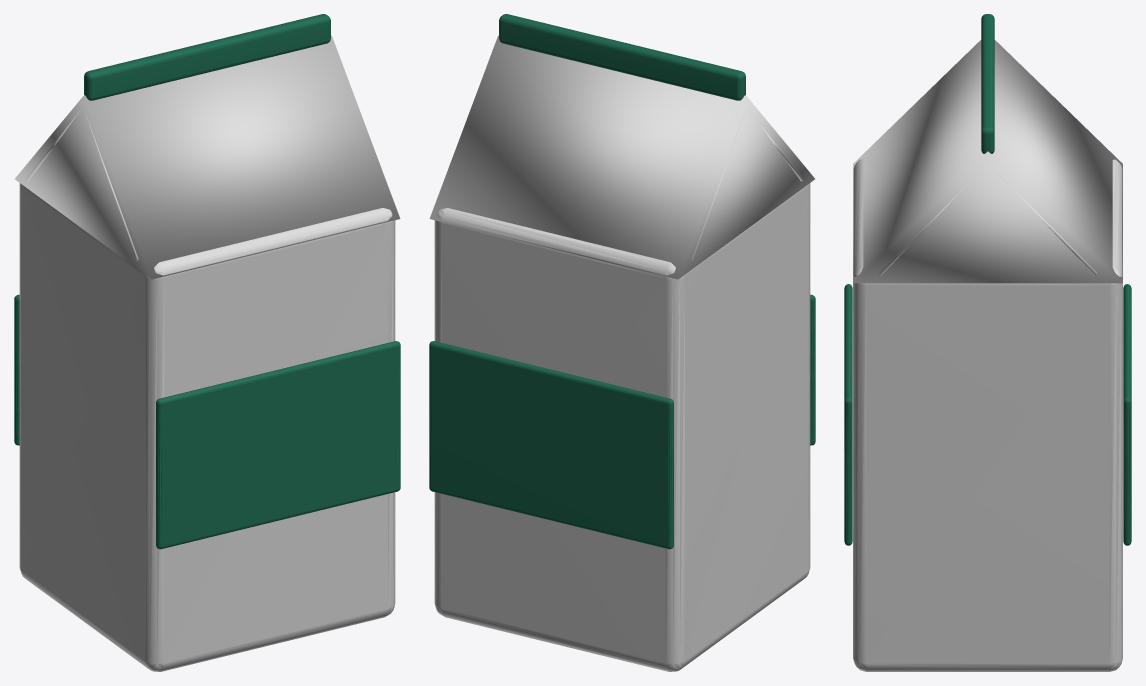
Rendered from carton.glb.
The picture shows the model from 3 angles, left to right: view 1: azimuth 30°, elevation 25°; view 2: azimuth 150°, elevation 25°; view 3: azimuth 270°, elevation 25°; orthographic projection.
Visible parts, largest first — view 1: body, band, cap; view 2: body, band, cap; view 3: body, band, cap.
Boxes of the visible parts, <box> form: body: <box>15,35,400,671</box>; band: <box>14,294,400,549</box>; cap: <box>84,14,330,100</box>; body: <box>429,35,814,671</box>; band: <box>429,294,815,549</box>; cap: <box>499,14,745,100</box>; body: <box>853,40,1122,671</box>; band: <box>844,284,1131,545</box>; cap: <box>981,14,994,153</box>.
Size of the model in its own units: 0.5 by 1.05 by 0.5.
